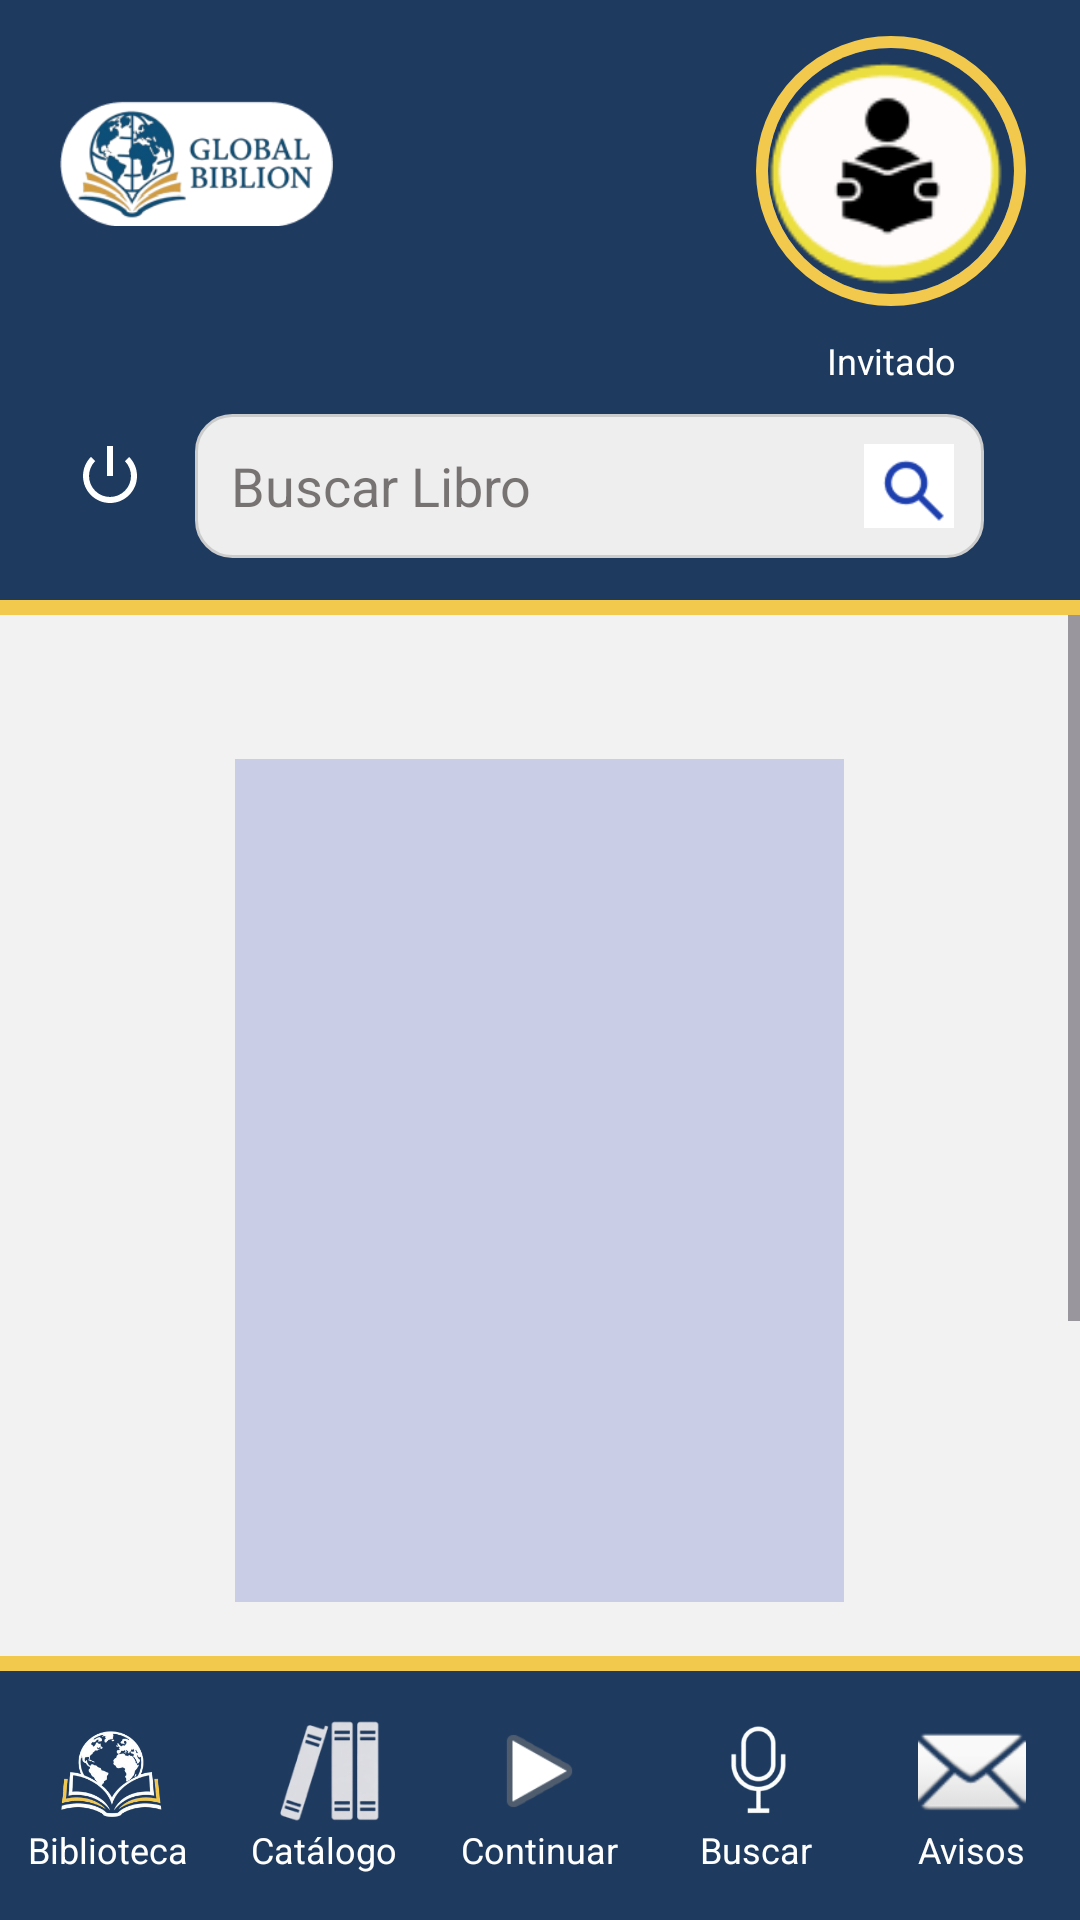

Point at icon controls on the screen. Image size 1080x1920, points as [x,y].
Cerrar sesión: [110,474]
email: [972,1772]
microfono: [758,1769]
Perfil: [886,173]
play: [539,1771]
